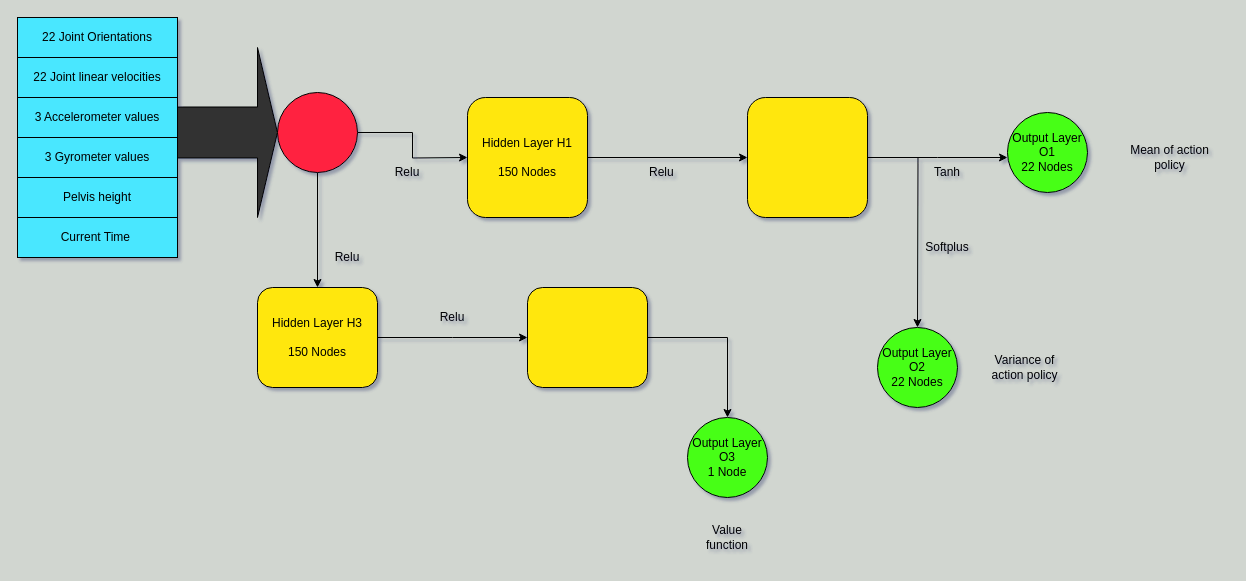
Image size: 1246x581. Some labels were removed from this diagram. The shapes that lost their labels are listed below. From the top down, each one's centre as x and y in pixels, then its label:
At point 317,132: "Input Layer 52 Nodes".
At point 807,157: "Hidden Layer H2 150 Nodes".
At point 587,337: "Hidden Layer H4 150 Nodes".
